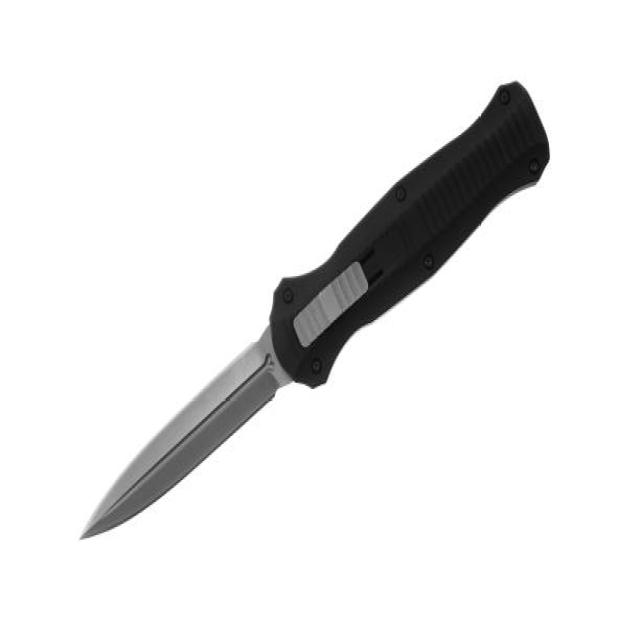knife: (75, 74, 557, 542)
